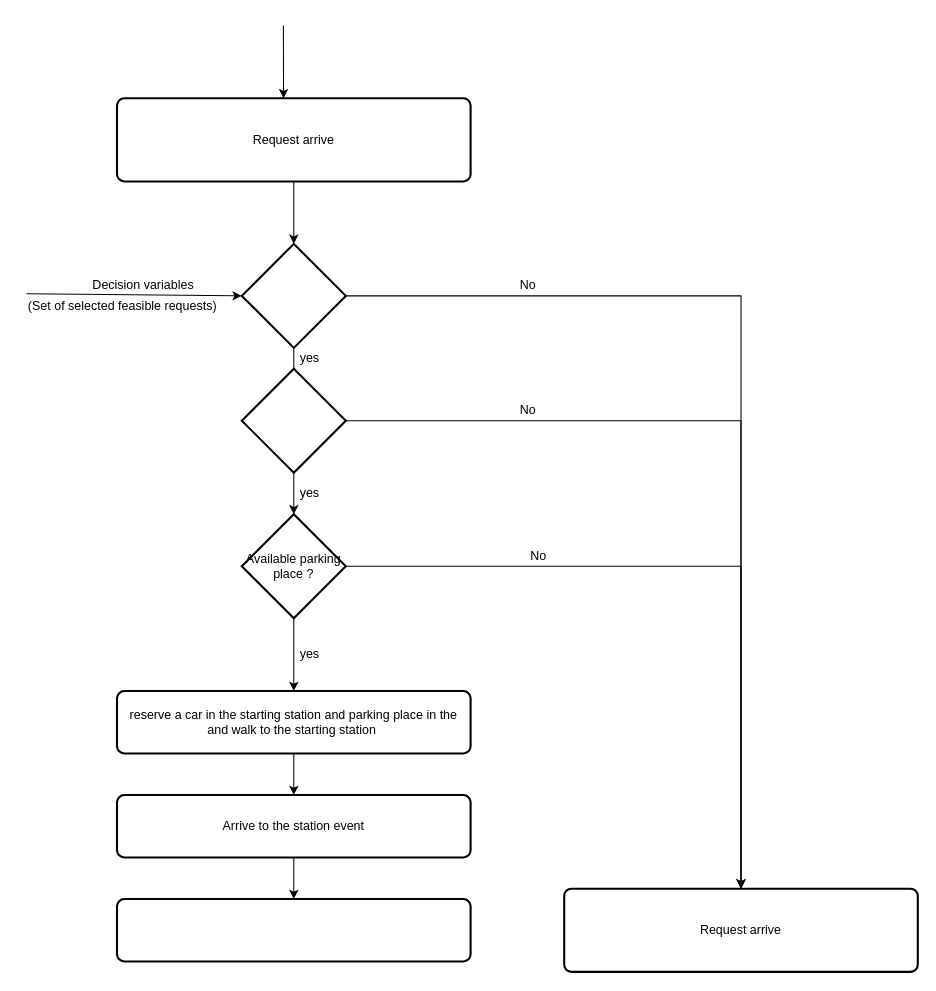
The diagram is 936 pixels wide and 991 high, and some of its shapes have lost their labels. Each missing label, with the box of its shape:
Accept the request ?: (240, 242, 346, 348)
arrive to the distination station: (115, 898, 471, 962)
Available car ?: (240, 367, 346, 473)
